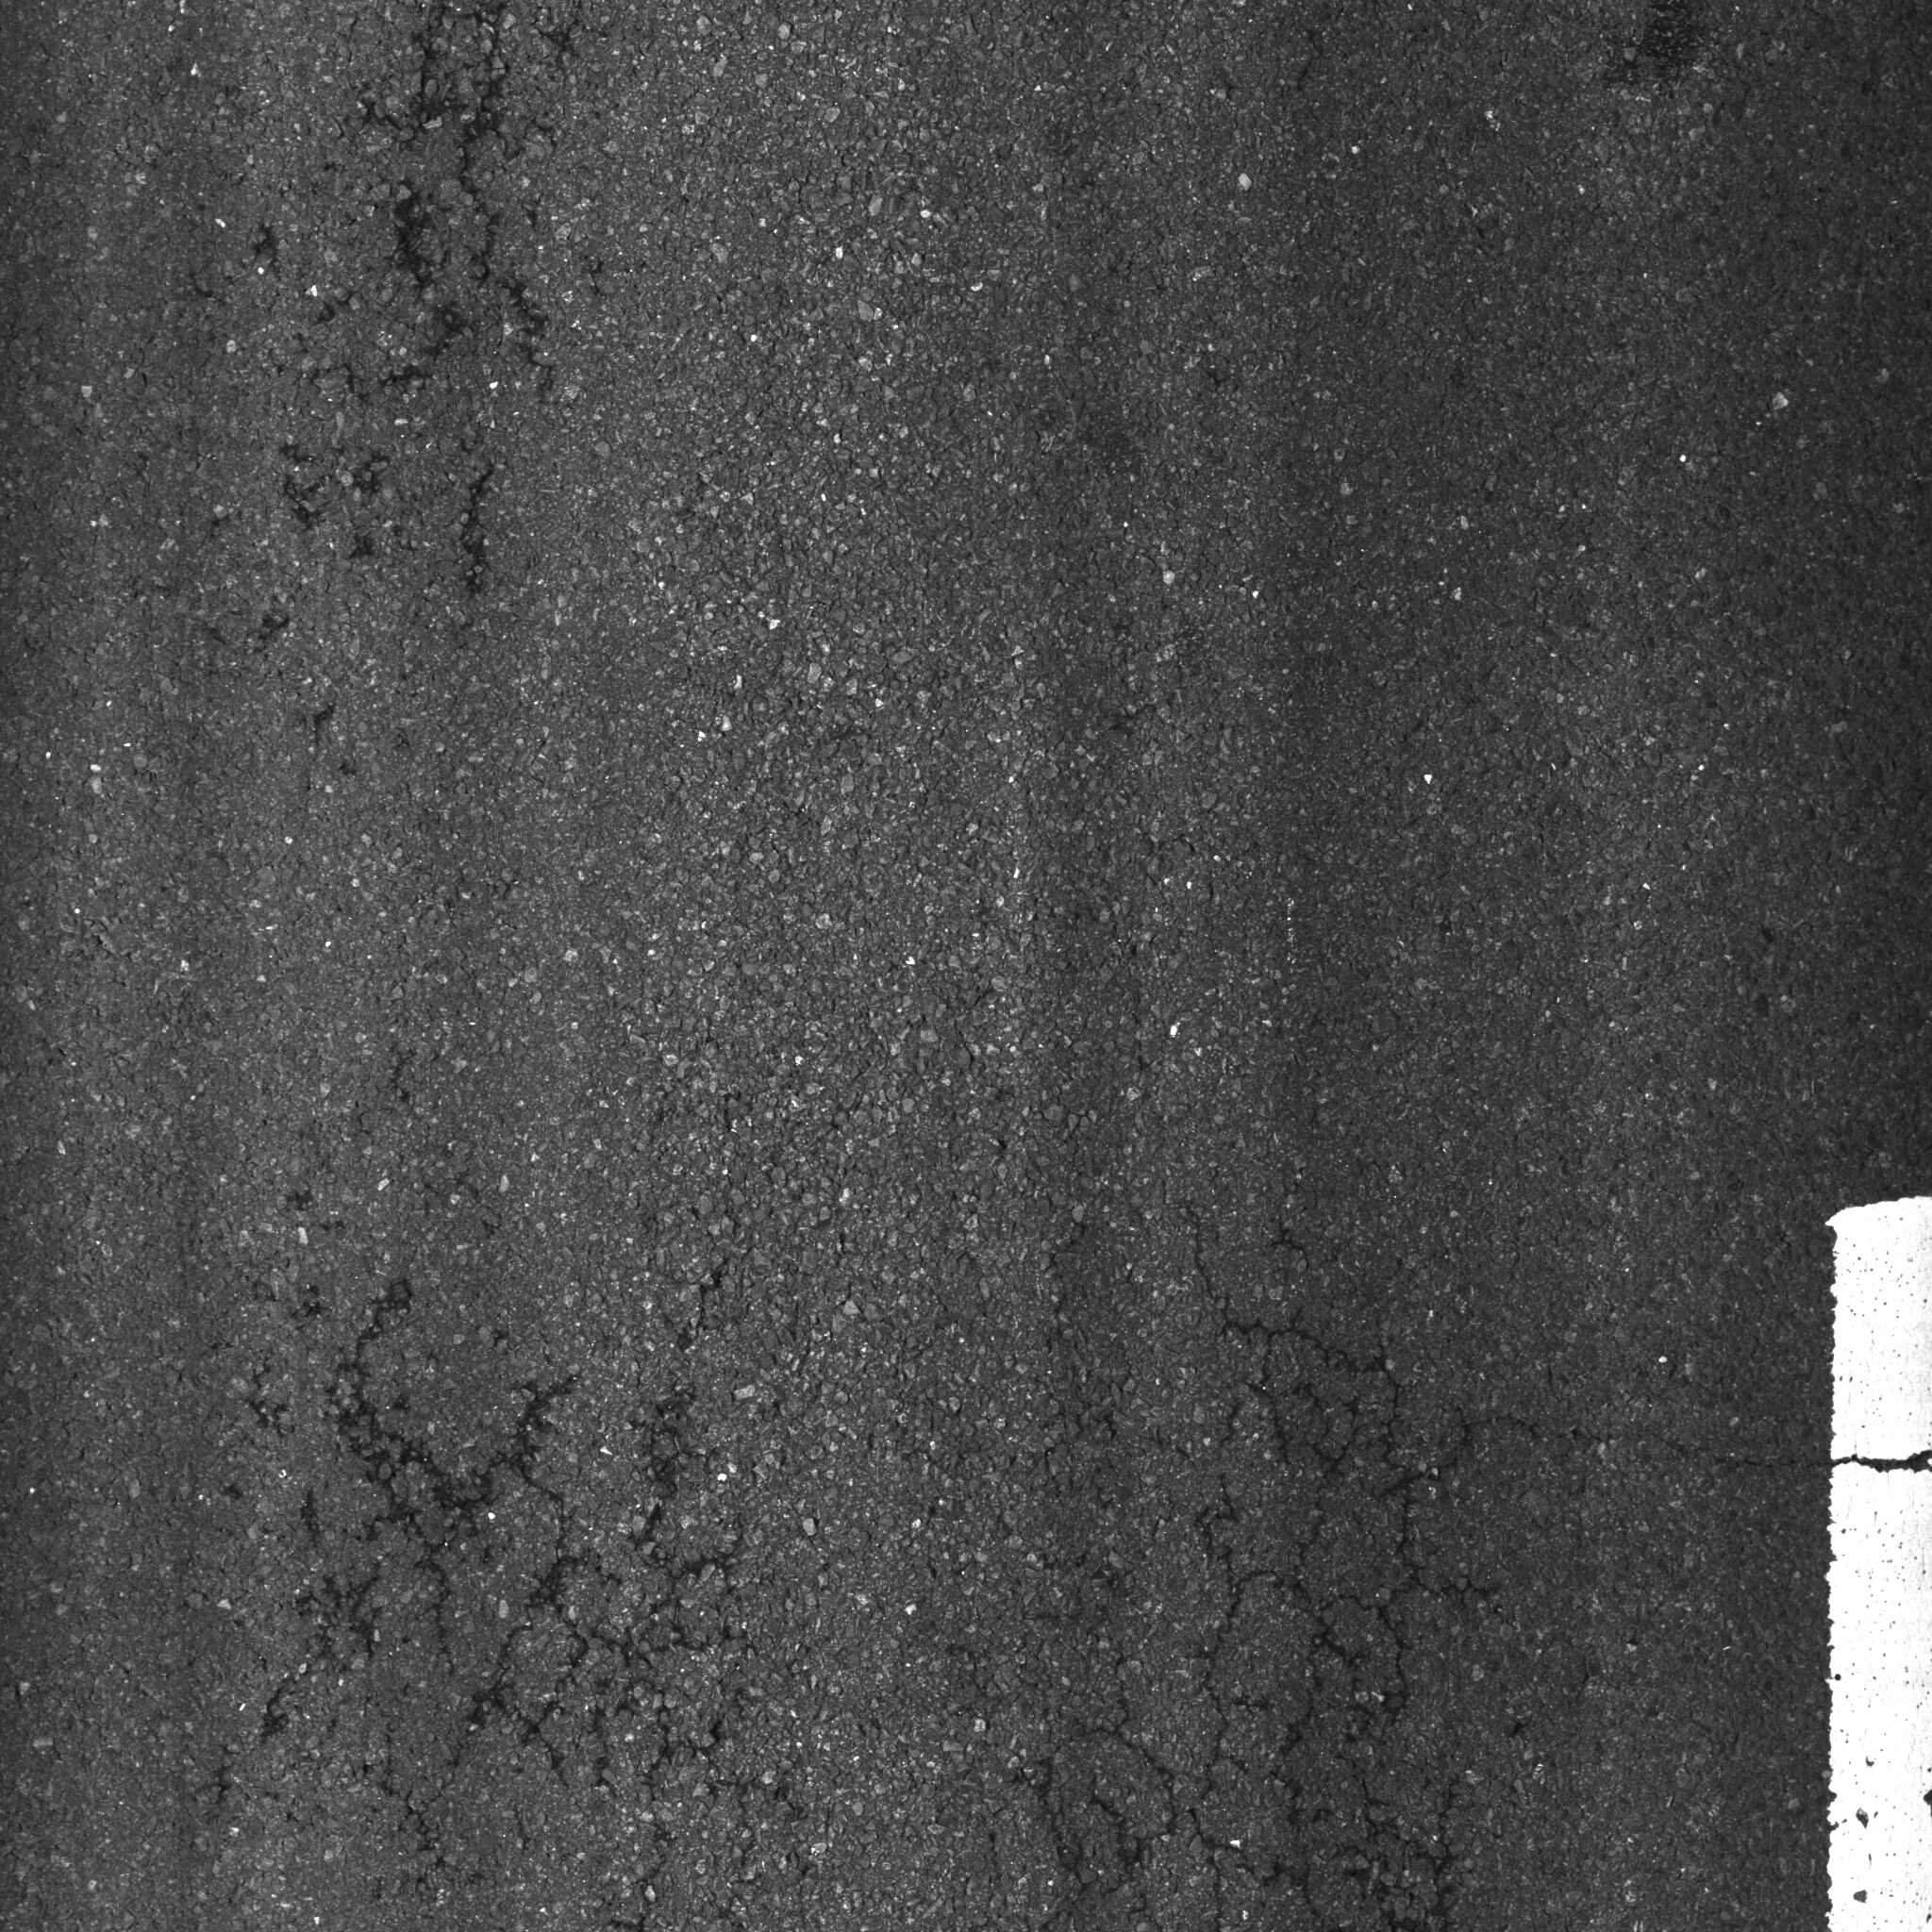alligator: (947, 1231, 1927, 1932), (188, 1246, 860, 1923), (230, 5, 639, 658)
